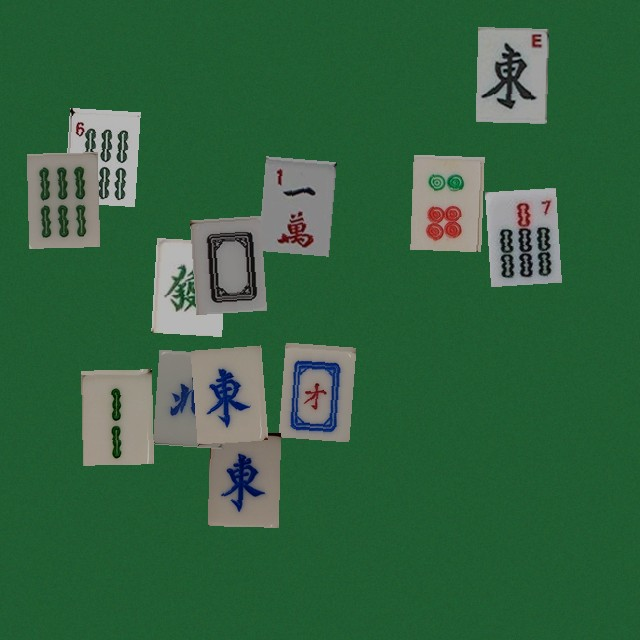tile: (64, 107, 135, 202), (26, 152, 97, 247), (151, 237, 222, 332), (410, 154, 481, 249), (278, 342, 349, 437), (207, 431, 278, 526), (475, 27, 546, 122), (152, 349, 223, 444), (190, 345, 261, 440), (485, 187, 556, 282), (258, 156, 329, 251), (189, 215, 260, 310), (80, 369, 151, 464)
